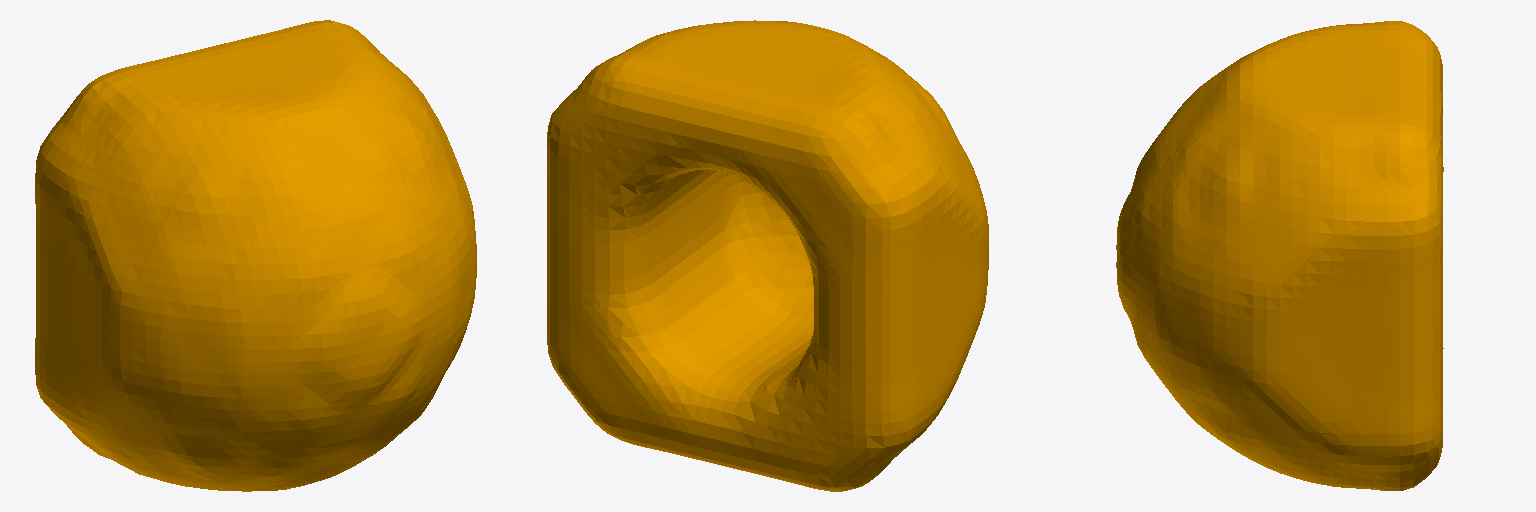
robot.urdf — X03_3:
<?xml version="1.0"?>
<robot name="X03_3">
  <link name="base_link">
    <visual>
      <geometry>
        <mesh filename="../../../../meshes/egad/train/X03_3.obj" />
      </geometry>
    </visual>
  </link>
</robot>

--- What the picture shows (computed from the rendered views, not written in the file) ---
3 views of the same robot in one strip: view 1: azimuth 30°, elevation 25°; view 2: azimuth 150°, elevation 25°; view 3: azimuth 270°, elevation 25° (orthographic).
Model X03_3 with 1 links and 0 joints (none), rooted at base_link, posed every joint at zero.
Visible links, largest first — view 1: base_link; view 2: base_link; view 3: base_link.
Boxes of the visible links, x1,y1,x2,y2 form: base_link: (35, 20, 476, 491); base_link: (547, 20, 988, 491); base_link: (1116, 21, 1443, 490).
Bounding box of the posed robot: 0.0742 × 0.06 × 0.0742 m (x, y, z).
Meshes: 1 distinct files referenced, 1 mesh visuals loaded (1 OBJ).